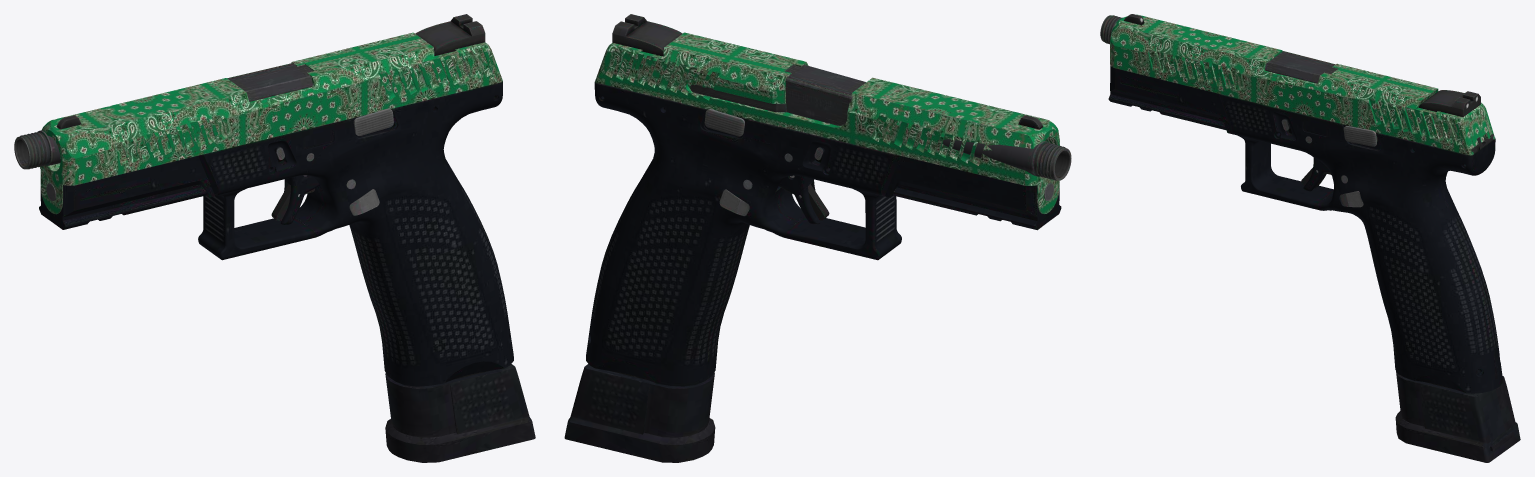
Rendered from weapon_czp10f-g.glb.
3 views of the same model, side by side, from view 1: azimuth 30°, elevation 25°; view 2: azimuth 150°, elevation 25°; view 3: azimuth 330°, elevation 25° (orthographic). The views are drawn at different scales.
Visible parts, largest first — view 1: main_frame_czp10f-g, slide_czp10f-g, magazine_czp10f-g, barrel_czp10f-g, rear_sight_czp10f-g, trigger_czp10f-g; view 2: main_frame_czp10f-g, slide_czp10f-g, magazine_czp10f-g, barrel_czp10f-g, rear_sight_czp10f-g, trigger_czp10f-g; view 3: main_frame_czp10f-g, slide_czp10f-g, magazine_czp10f-g, barrel_czp10f-g, rear_sight_czp10f-g, trigger_czp10f-g.
Part boxes in pixels (x1=…): main_frame_czp10f-g: x1=39, y1=81, x2=513, y2=386; slide_czp10f-g: x1=40, y1=32, x2=502, y2=214; magazine_czp10f-g: x1=385, y1=364, x2=535, y2=462; barrel_czp10f-g: x1=14, y1=63, x2=313, y2=169; rear_sight_czp10f-g: x1=415, y1=14, x2=485, y2=55; trigger_czp10f-g: x1=271, y1=175, x2=319, y2=224; main_frame_czp10f-g: x1=586, y1=81, x2=1061, y2=386; slide_czp10f-g: x1=595, y1=32, x2=1059, y2=213; magazine_czp10f-g: x1=564, y1=364, x2=715, y2=462; barrel_czp10f-g: x1=785, y1=64, x2=1071, y2=180; rear_sight_czp10f-g: x1=612, y1=14, x2=682, y2=56; trigger_czp10f-g: x1=779, y1=175, x2=829, y2=224; main_frame_czp10f-g: x1=1108, y1=65, x2=1502, y2=393; slide_czp10f-g: x1=1110, y1=14, x2=1495, y2=155; magazine_czp10f-g: x1=1395, y1=371, x2=1520, y2=462; barrel_czp10f-g: x1=1100, y1=15, x2=1337, y2=83; rear_sight_czp10f-g: x1=1418, y1=90, x2=1480, y2=116; trigger_czp10f-g: x1=1301, y1=157, x2=1331, y2=191.
Bounding box in the file's own units: 25.12 × 20.4 × 3.65.
2 materials, 2 textured.
